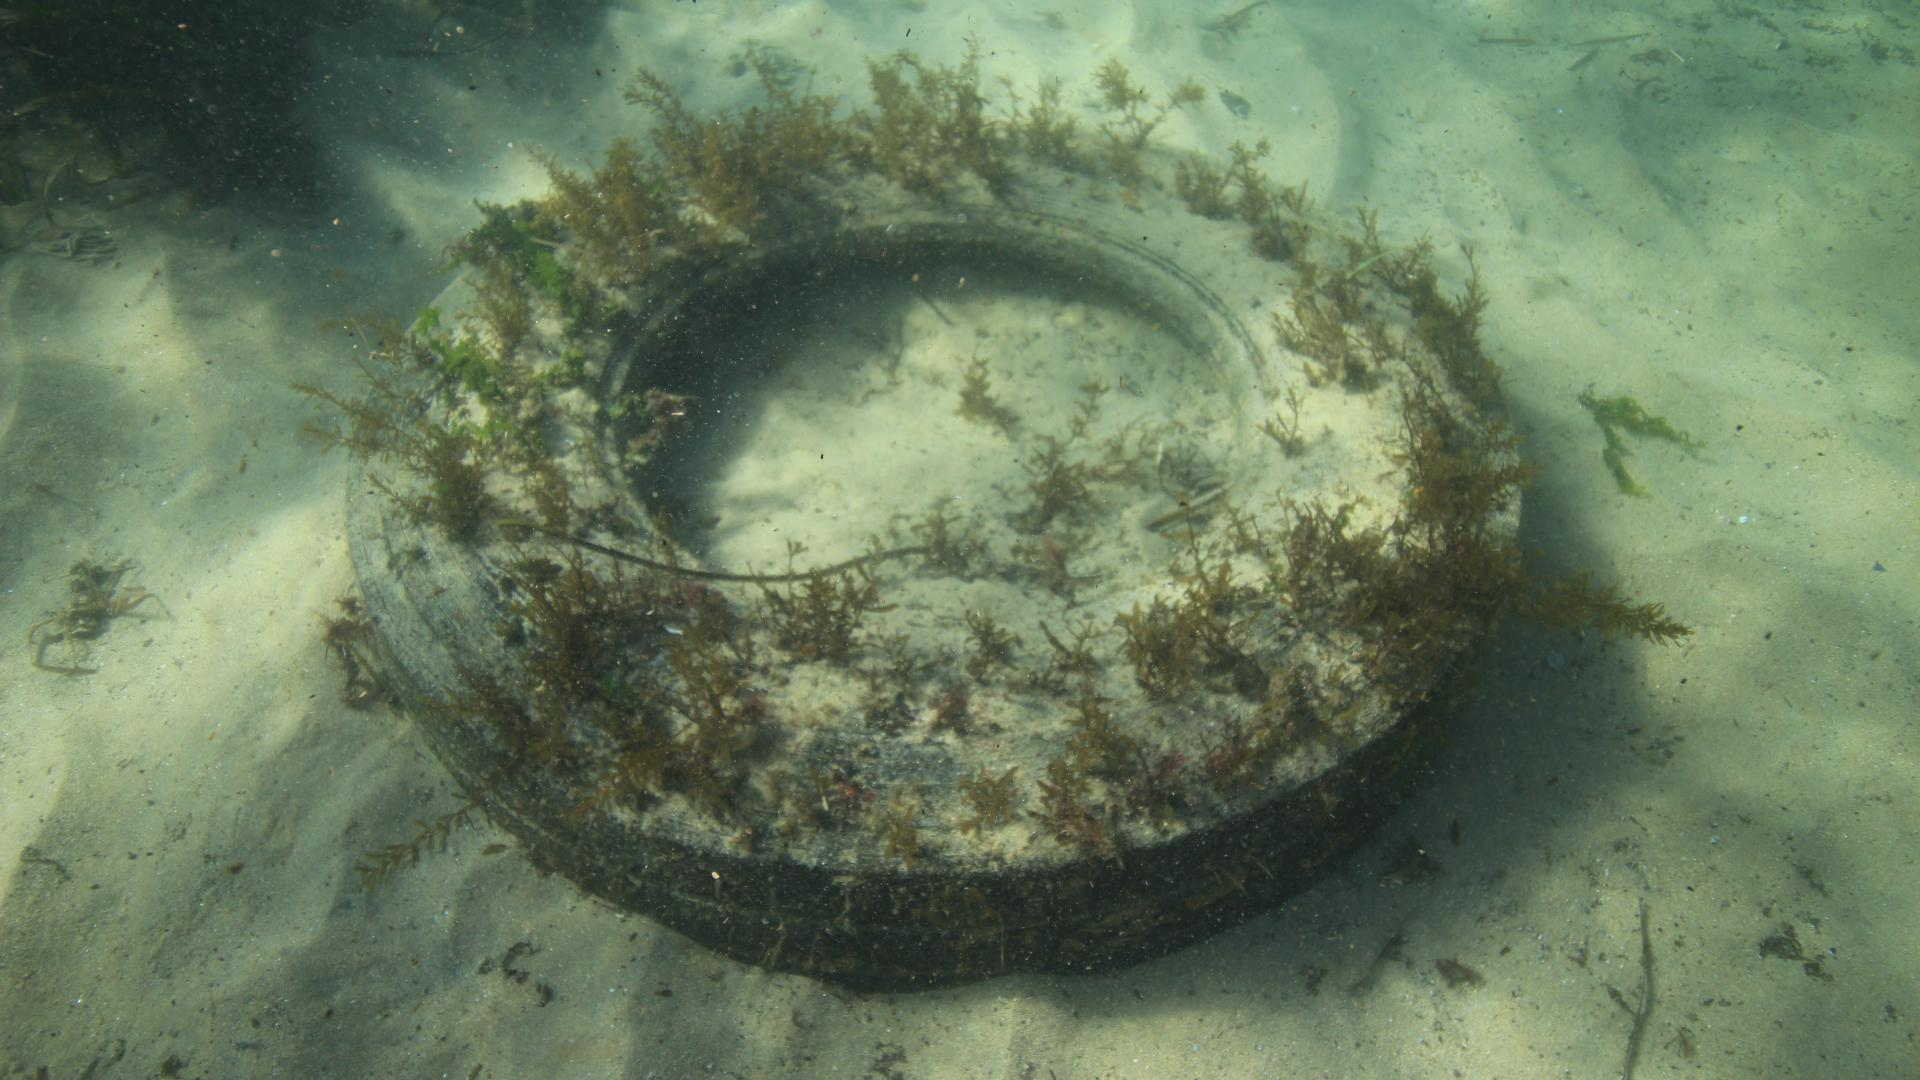tire: (343, 113, 1522, 992)
